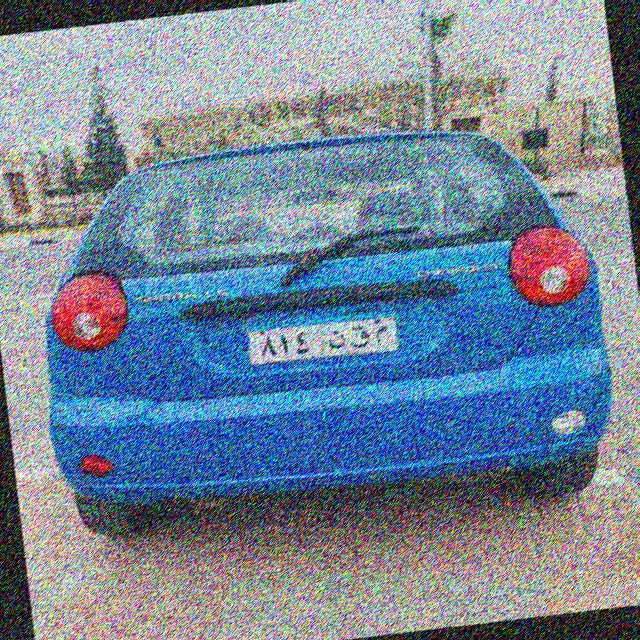License Plate: (241, 292, 404, 369)
